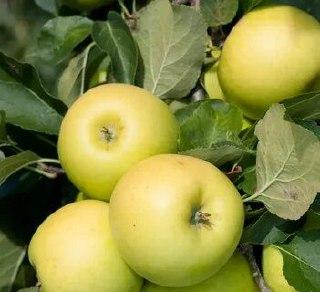Apple: (109, 154, 244, 288), (58, 84, 178, 198)
